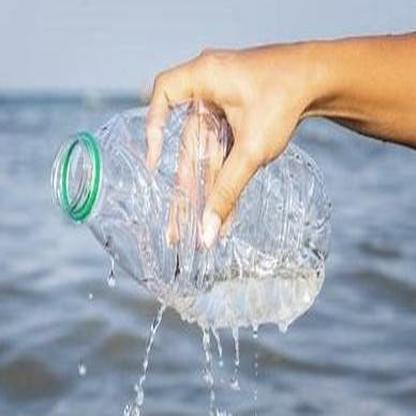plastic bottle: (51, 101, 330, 325)
